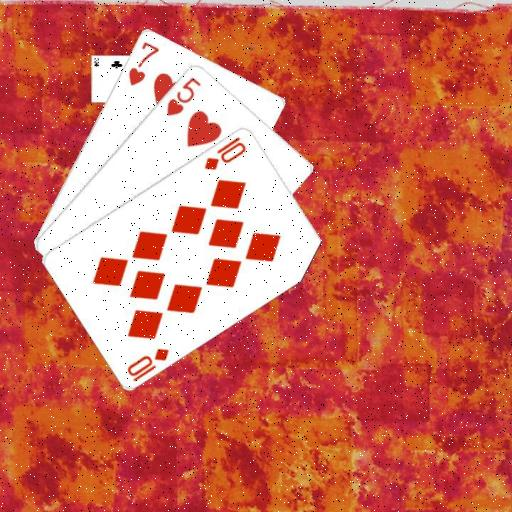10D: (124, 345, 171, 383), (202, 133, 248, 171)
5H: (163, 74, 203, 118)
7H: (125, 38, 161, 88)
